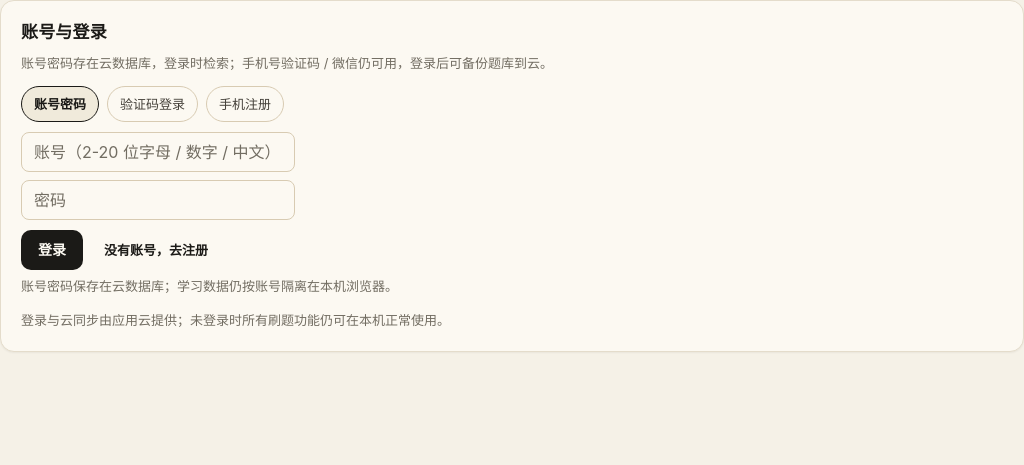
Test case: 账号卡片 › 已注册手机号走手机注册时被拦截并提示改用登录
This screenshot has width=1024, height=465.
Expected: the button "账号密码" is shown, [21, 86, 99, 122]
Click the button "手机注册".
click(245, 104)  # box [206, 86, 284, 122]
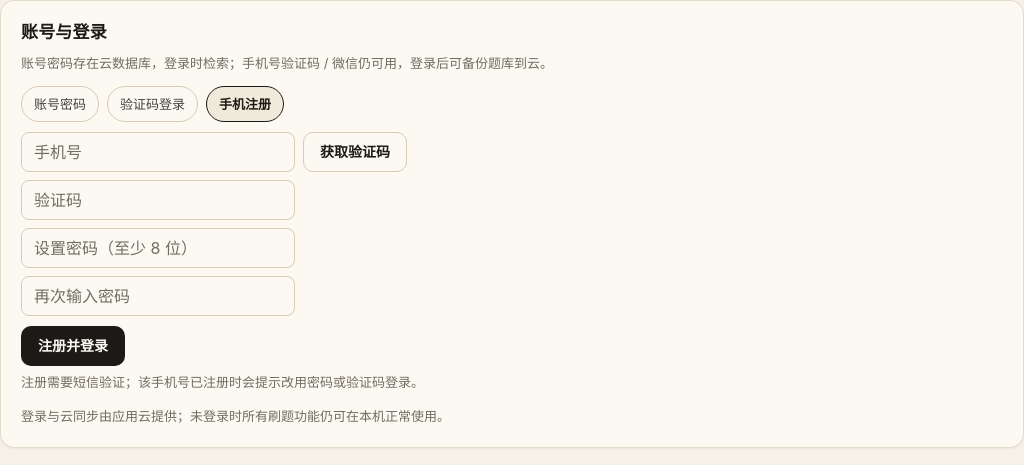
Type "13800000000" into the field named "注册手机号".
click(158, 152); type("13800000000")  # box [21, 132, 295, 172]
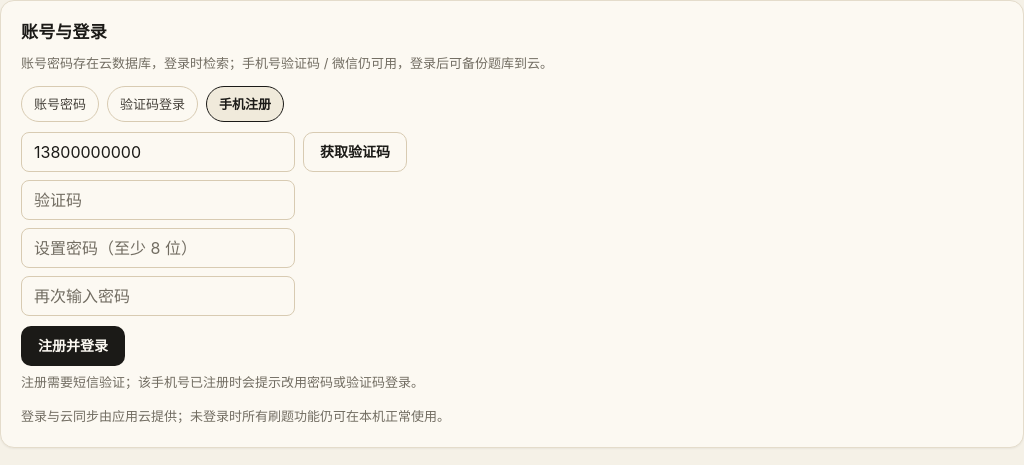
Click the button "获取验证码".
click(355, 152)  # box [303, 132, 407, 172]
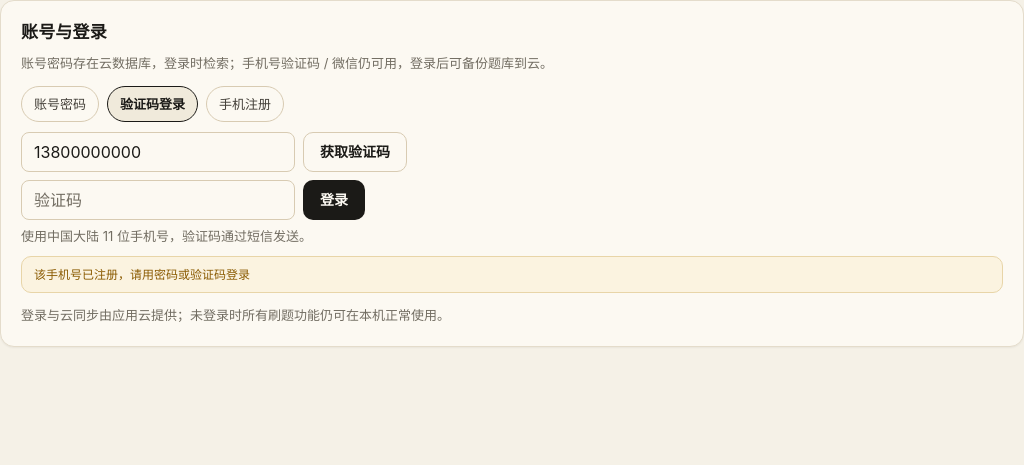
Expected: the text "该手机号已注册，请用密码或验证码登录" is shown, [21, 256, 1003, 293]
